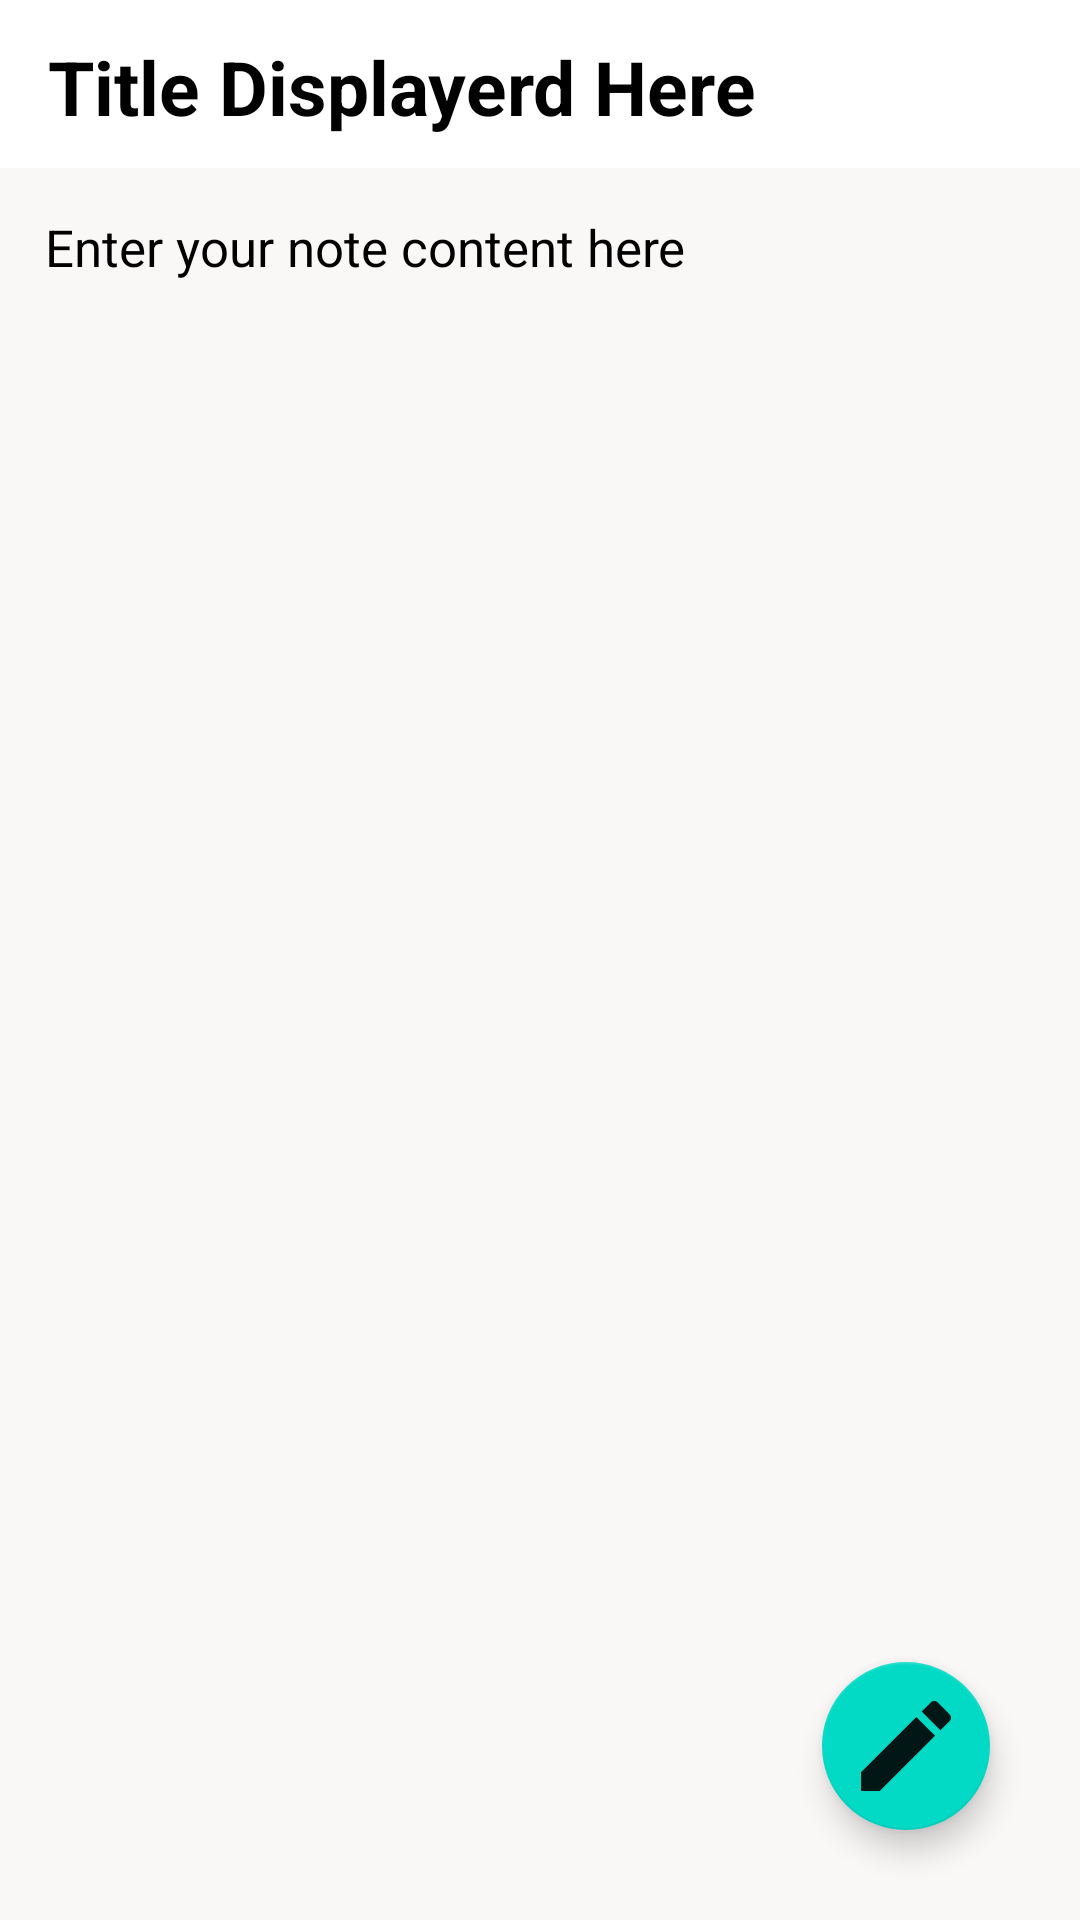

Icons on this 1080x1920 Android screen, each with the point to tap as point (x, y):
edit: point (906, 1746)
